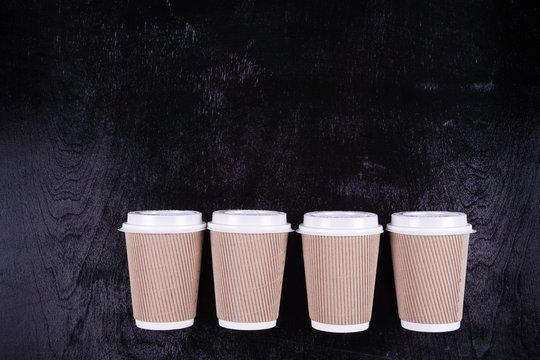cup-disposable: (385, 208, 476, 335), (296, 208, 385, 336), (119, 207, 207, 333), (207, 206, 292, 333)
